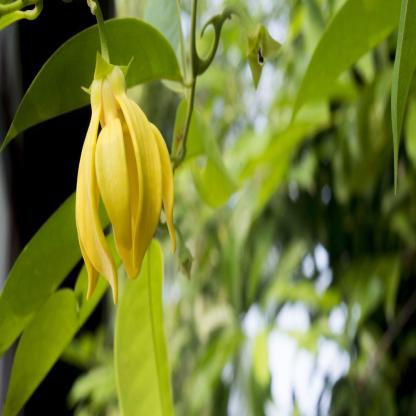Kenanga: (70, 64, 178, 279)
